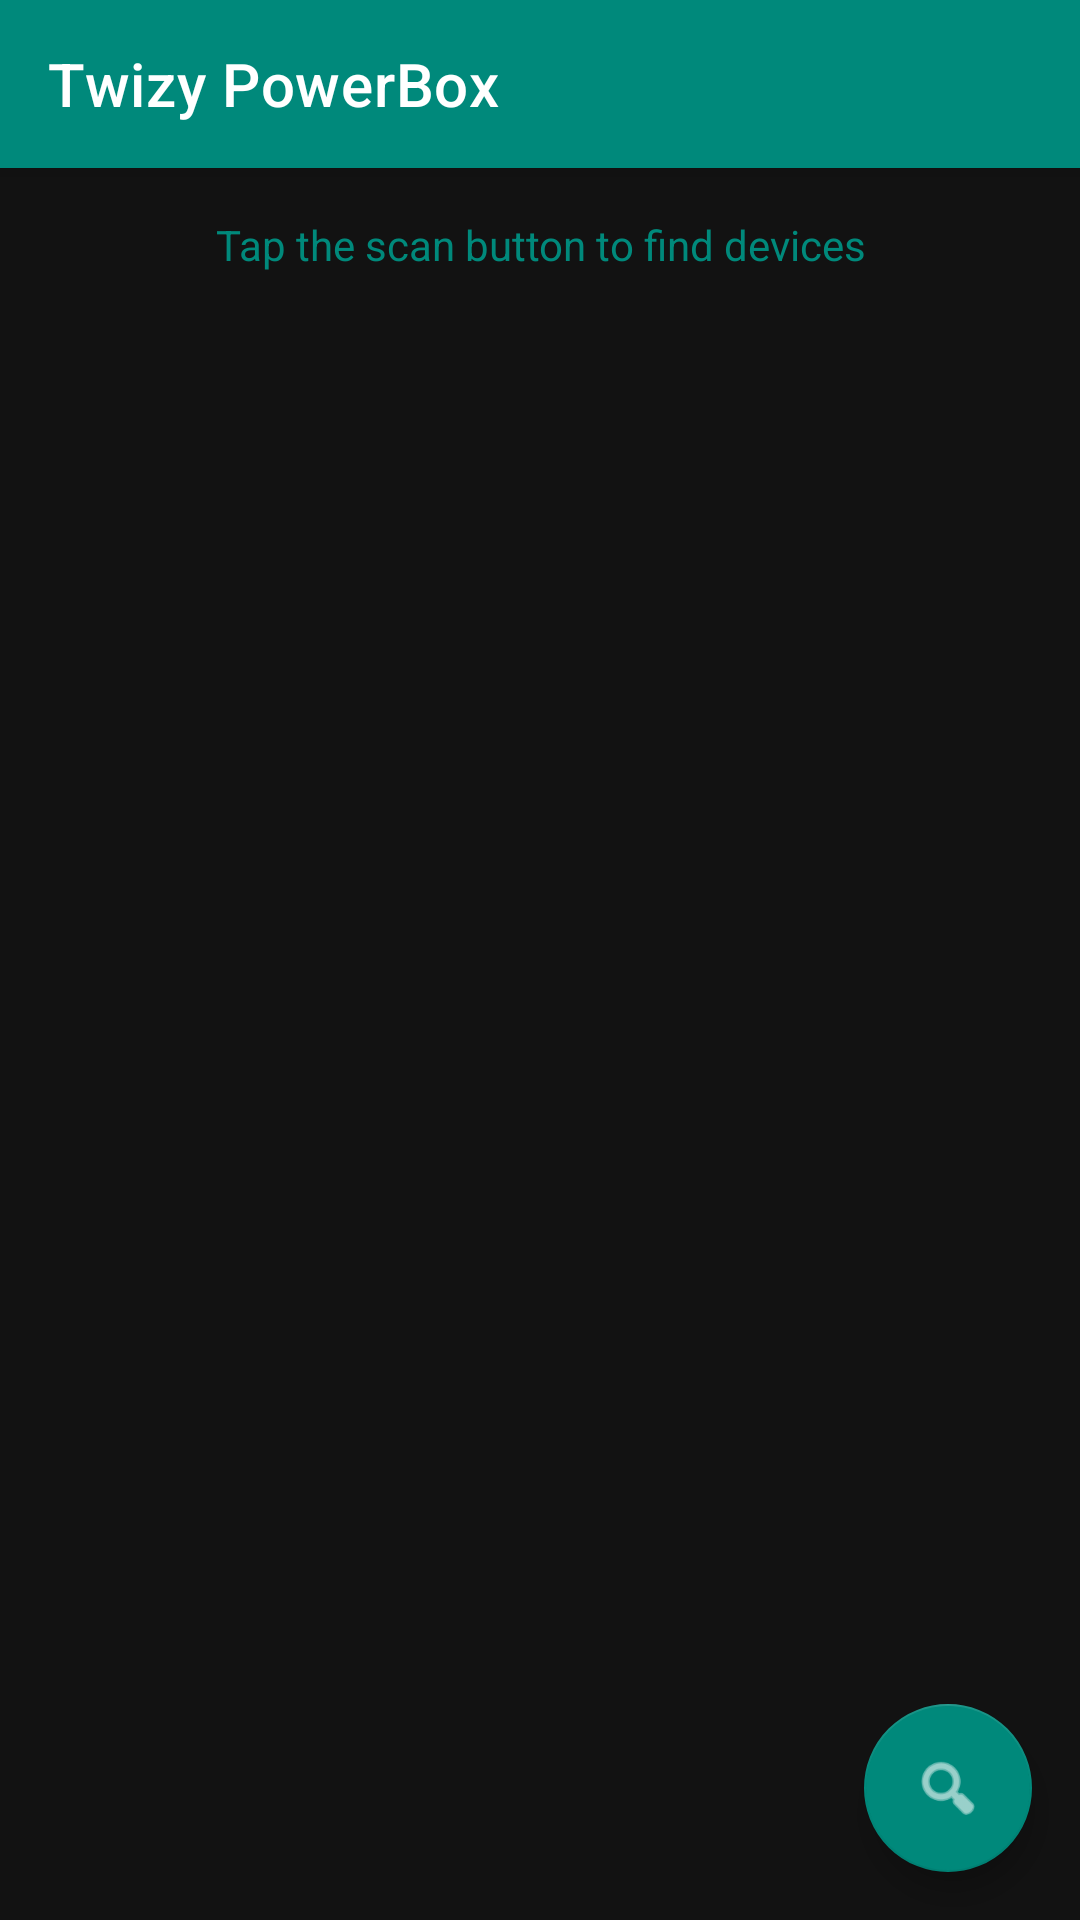

Named icons in this screenshot (1080x1920) and their centers, (x=x, y=y):
Scan for Bluetooth devices: (x=948, y=1788)
